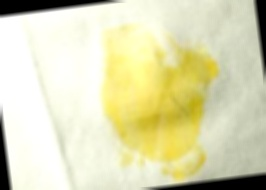mustard: (98, 23, 235, 189)
